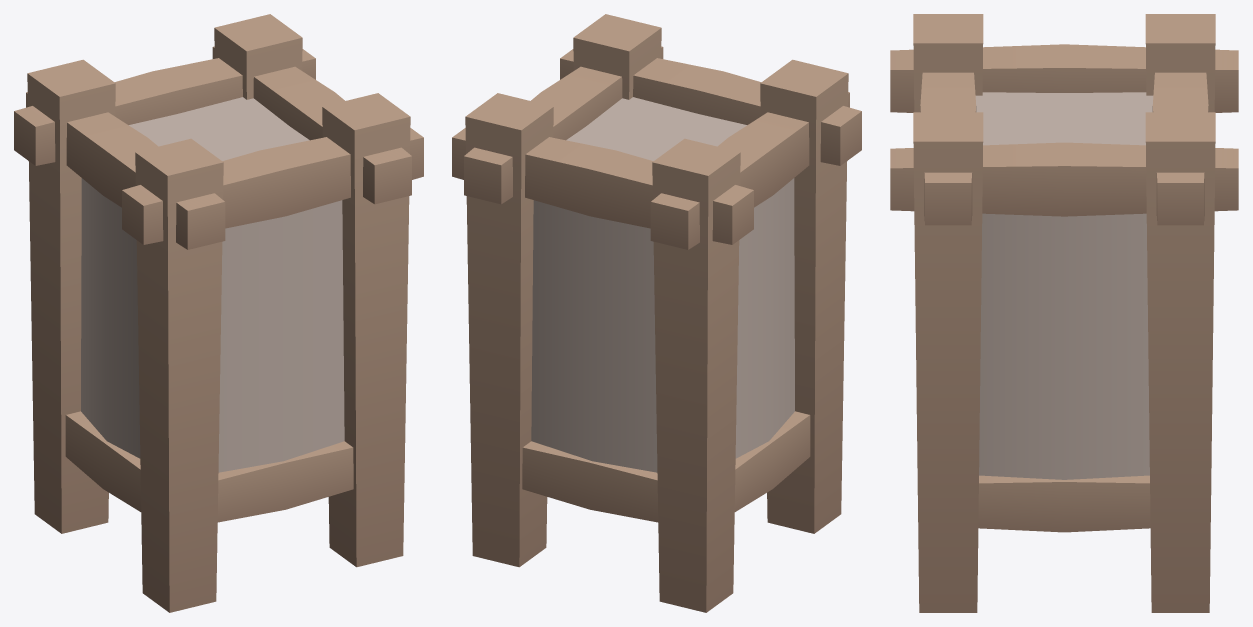
The model's file is lamp-lantern.glb.
3 renders of one model, left to right at view 1: azimuth 30°, elevation 25°; view 2: azimuth 150°, elevation 25°; view 3: azimuth 270°, elevation 25°, orthographic. The views are drawn at different scales.
Parts seen in each view (by area): view 1: lamp-lantern; view 2: lamp-lantern; view 3: lamp-lantern.
Boxes of the visible parts, x1,y1,x2,y2 form: lamp-lantern: [14, 14, 423, 612]; lamp-lantern: [452, 14, 861, 612]; lamp-lantern: [890, 14, 1238, 612].
Size of the model in its own units: 0.3 by 0.45 by 0.3.
